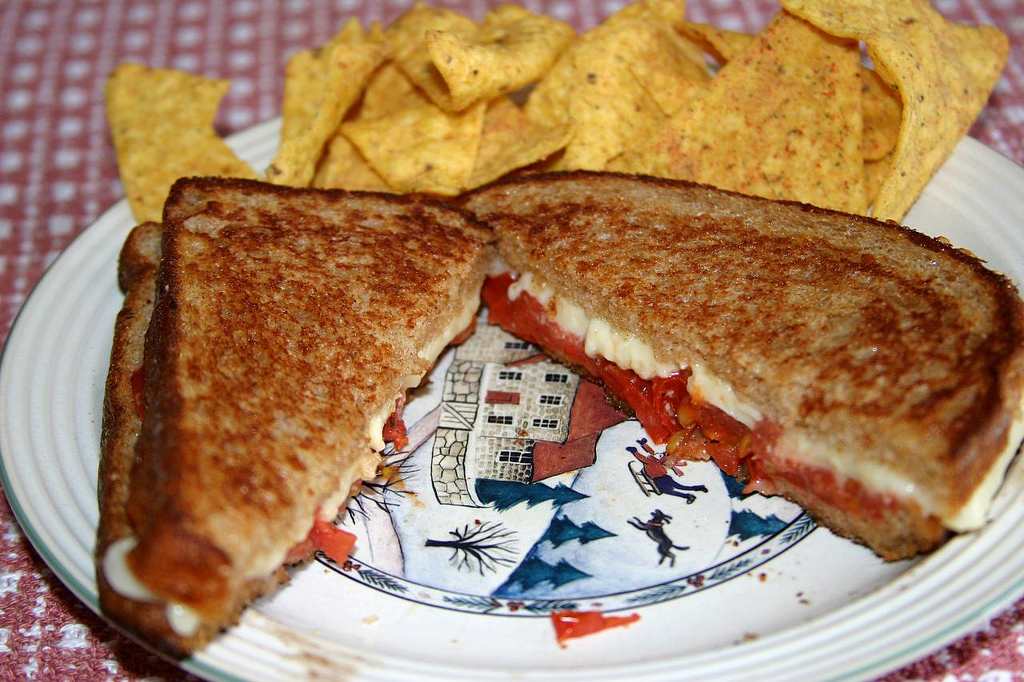slice of bread: (494, 173, 1014, 516), (95, 196, 482, 618)
